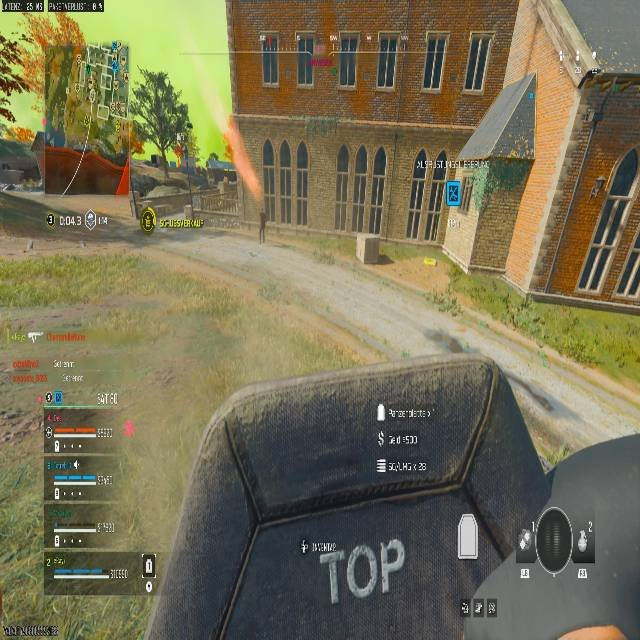player: (138, 205, 156, 234)
